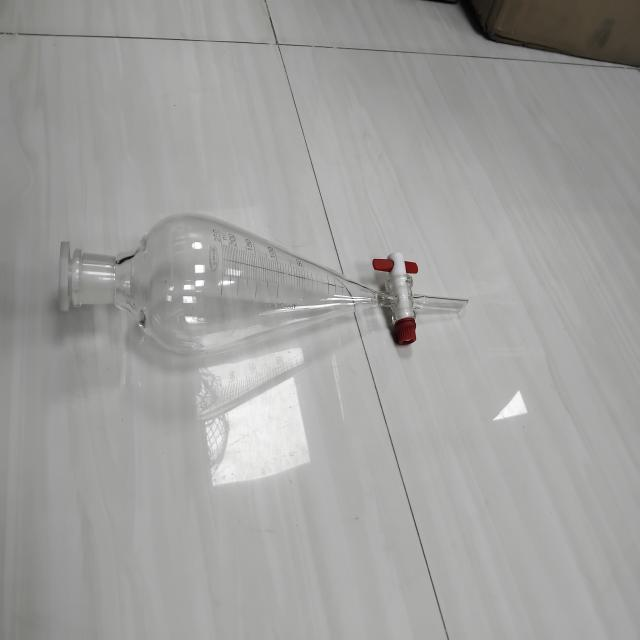Separating_Funnel: (41, 165, 484, 427)
